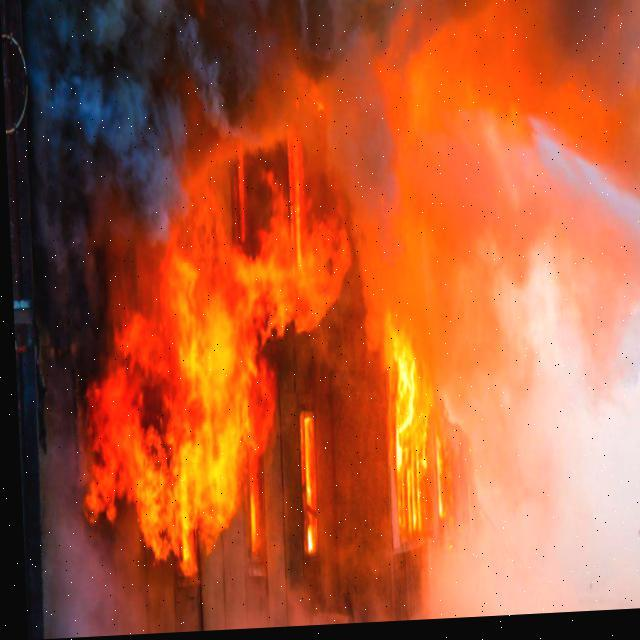Fire: (59, 132, 524, 570)
